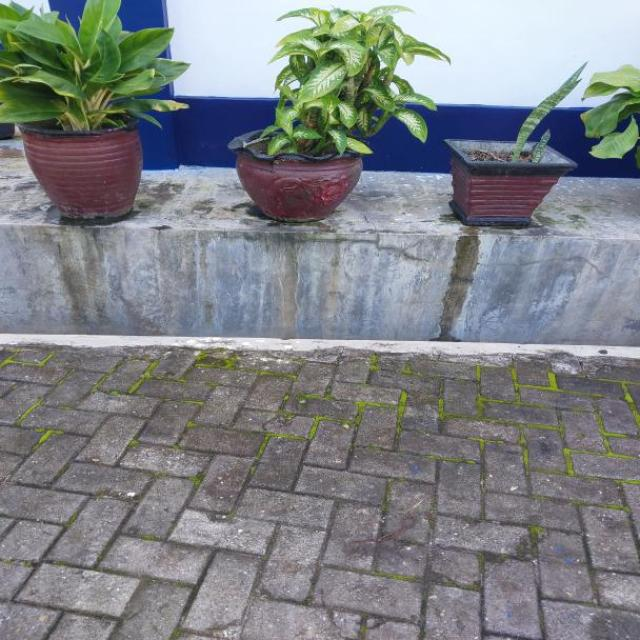plant ahead at: (222, 14, 417, 223), (2, 0, 184, 216), (444, 58, 640, 220)
